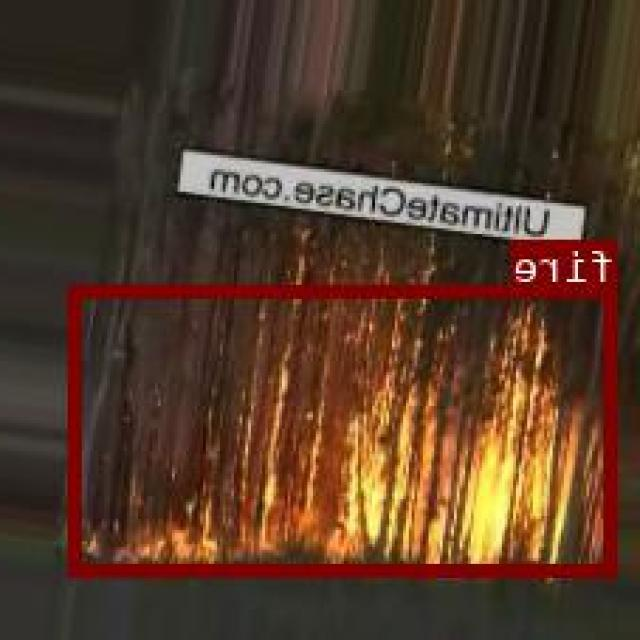fire: (72, 283, 620, 573)
